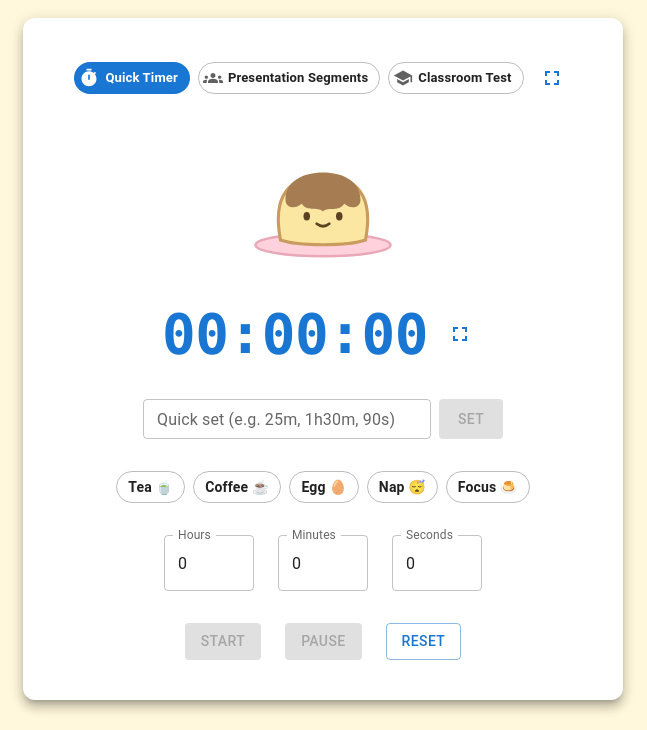
Timer › accepts a natural-language quick set
The width and height of the screenshot is (647, 730).
Type "1h30m" into the field labelled "Quick set (e.g. 25m, 1h30m, 90s)" at (287, 419), box [143, 399, 431, 439]
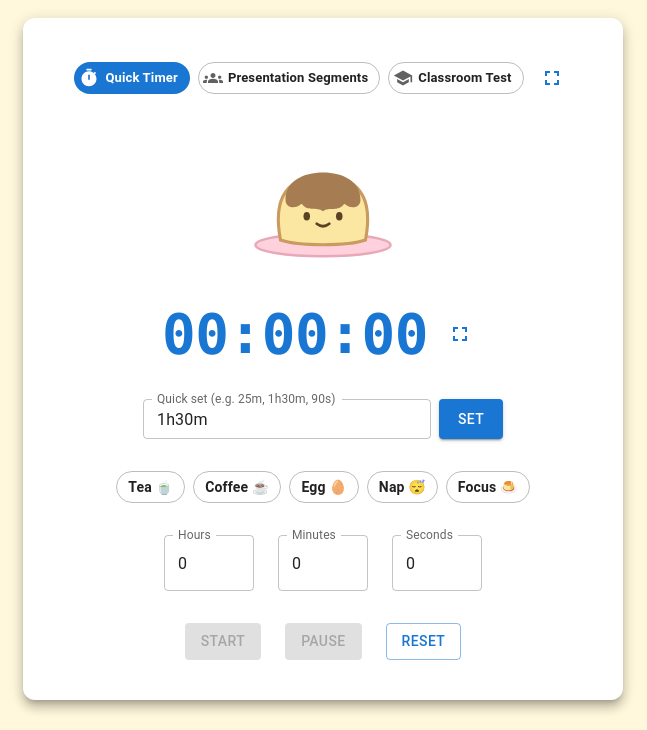
Click the button "Set" at (471, 419), box [439, 399, 503, 439]
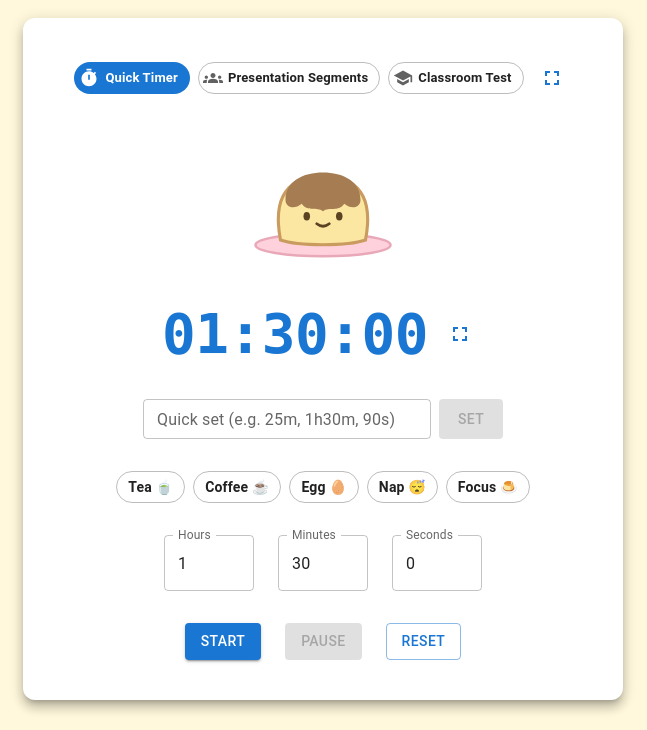
Check: the heading "01:30:00" is shown, box [162, 300, 428, 367]
